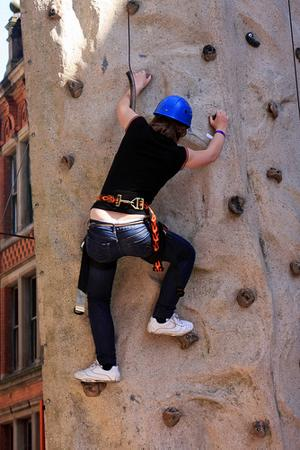person: (74, 69, 231, 384)
